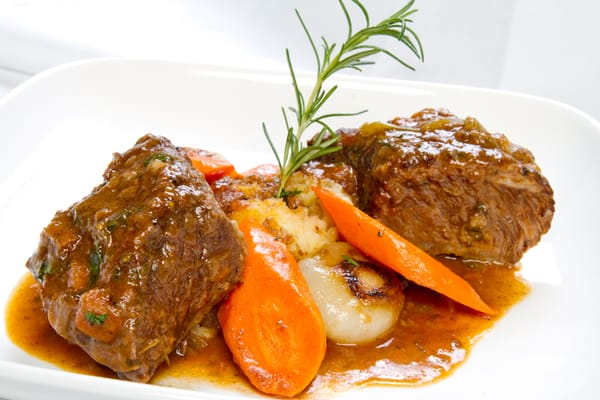pizza: (312, 183, 490, 313)
